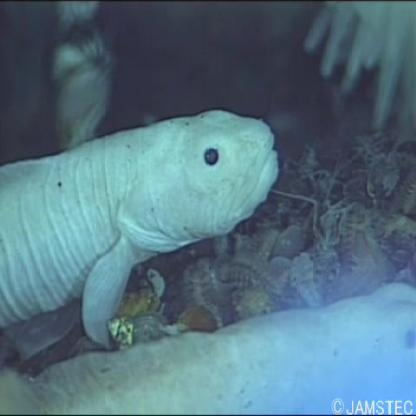Bio: (1, 100, 283, 353)
